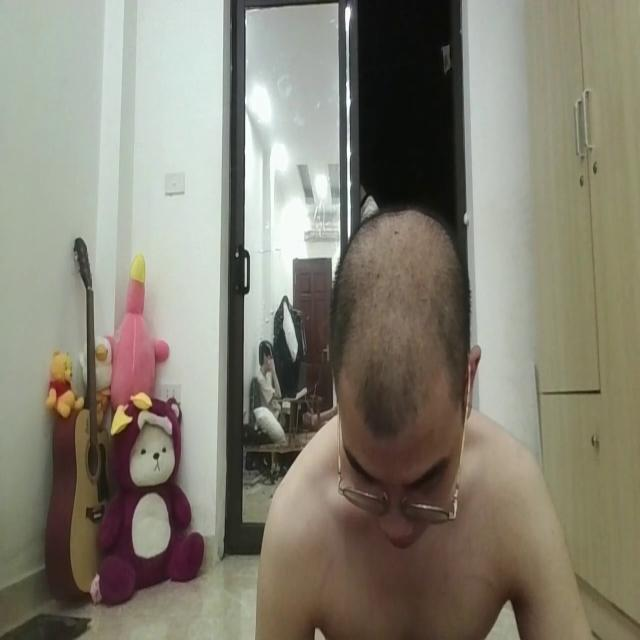extra_person: (242, 324, 303, 455), (356, 149, 388, 238)
student: (239, 179, 594, 640)
